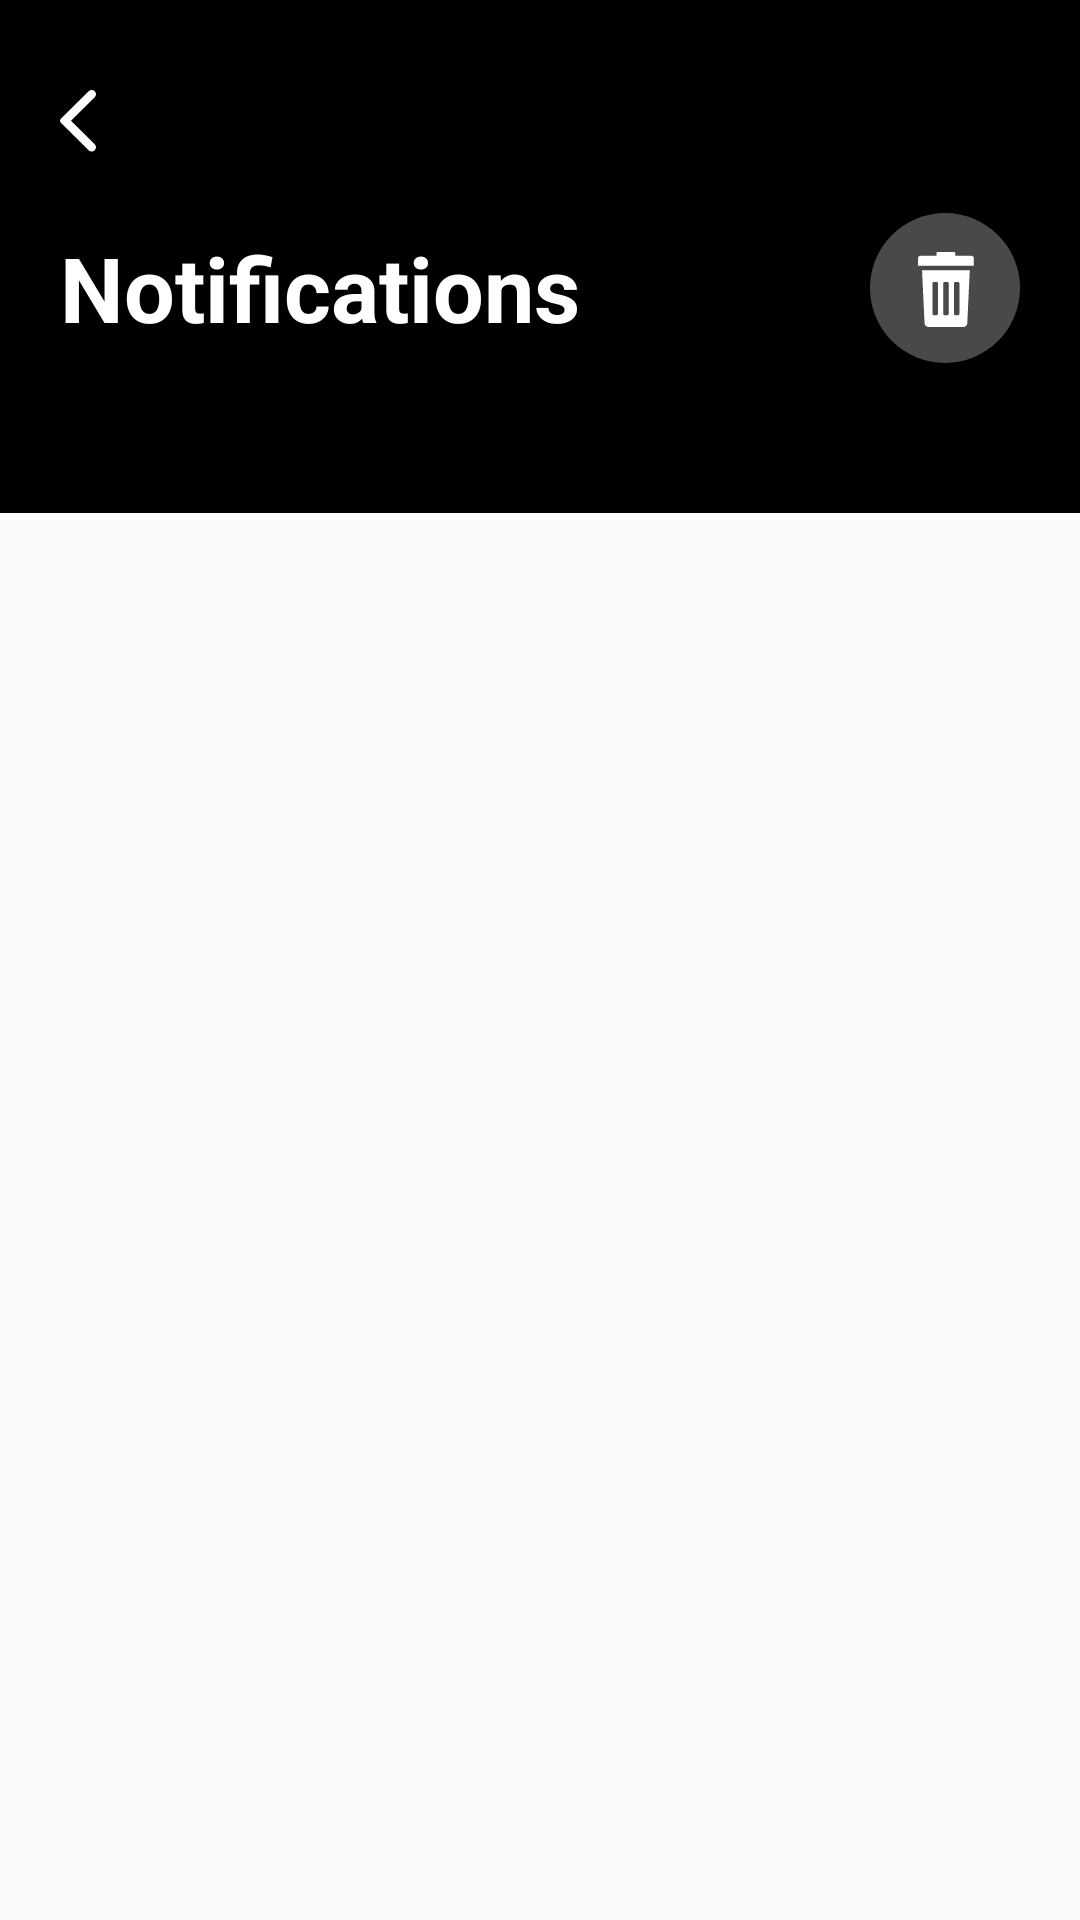

Locate icon controls on the screen. Image size 1080*1920, boxes as (x1, y1, x2, y2).
delete: (870, 213, 1020, 363)
left arrow: (60, 90, 96, 152)
